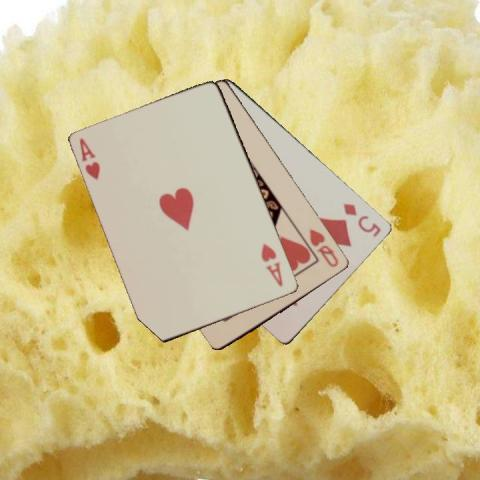5d: (341, 200, 382, 239)
Ah: (258, 240, 285, 289), (77, 135, 102, 181)
Qh: (306, 226, 340, 270)
